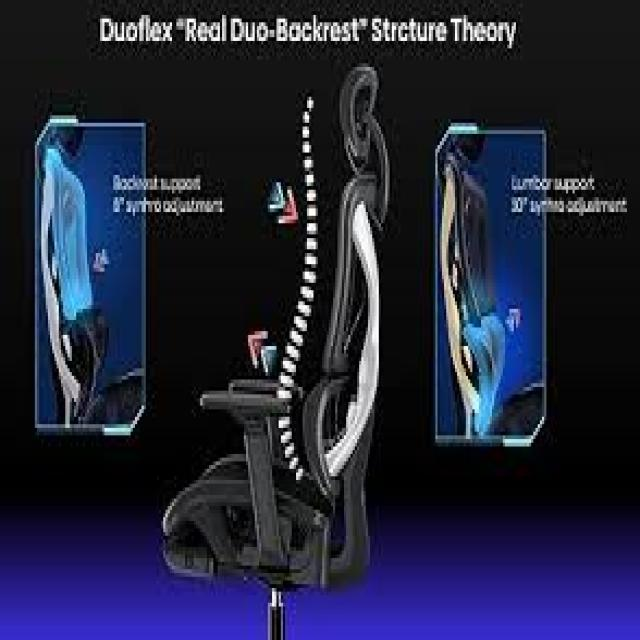chair: (151, 53, 404, 640)
